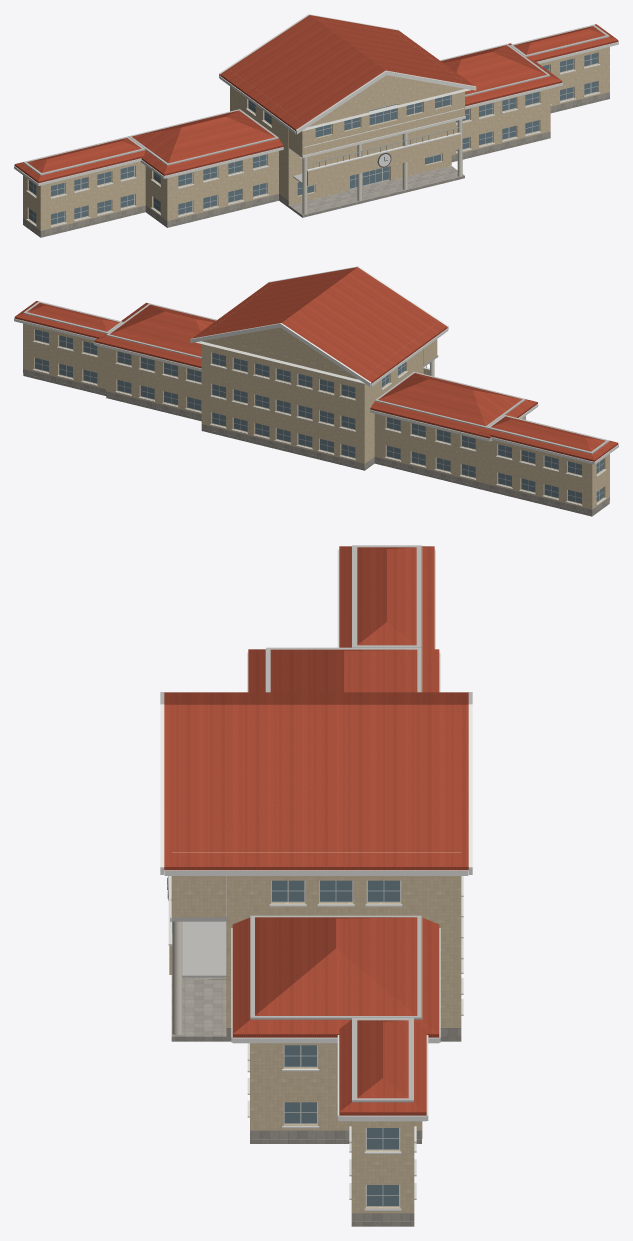
3 renders of one model, top to bottom at view 1: azimuth 30°, elevation 25°; view 2: azimuth 150°, elevation 25°; view 3: azimuth 270°, elevation 25°, orthographic. The views are drawn at different scales.
Visible parts, largest first — view 1: main__tile, main__roof, main__glass, main__stone, main__trim, main__slab, main__frame, main__column, main__soffit, main__rail; view 2: main__tile, main__roof, main__glass, main__trim, main__stone, main__frame, main__slab, main__soffit; view 3: main__roof, main__tile, main__slab, main__trim, main__stone, main__glass, main__frame, main__column.
Part boxes in pixels (left/top/right/bottom): main__tile: left=23, top=47, right=609, bottom=230; main__roof: left=14, top=15, right=618, bottom=183; main__glass: left=29, top=52, right=597, bottom=224; main__stone: left=23, top=92, right=609, bottom=237; main__trim: left=14, top=14, right=618, bottom=227; main__slab: left=23, top=24, right=609, bottom=183; main__frame: left=28, top=53, right=598, bottom=225; main__column: left=302, top=119, right=462, bottom=214; main__soffit: left=302, top=89, right=470, bottom=131; main__rail: left=307, top=127, right=459, bottom=168; main__tile: left=23, top=323, right=609, bottom=509; main__roof: left=14, top=267, right=618, bottom=461; main__glass: left=35, top=329, right=603, bottom=503; main__trim: left=14, top=266, right=618, bottom=506; main__stone: left=23, top=369, right=609, bottom=516; main__frame: left=34, top=329, right=603, bottom=503; main__slab: left=23, top=301, right=609, bottom=453; main__soffit: left=195, top=341, right=364, bottom=383; main__roof: left=164, top=546, right=468, bottom=1115; main__tile: left=169, top=547, right=461, bottom=1213; main__slab: left=172, top=545, right=421, bottom=1102; main__trim: left=160, top=549, right=472, bottom=1210; main__stone: left=171, top=975, right=461, bottom=1226; main__glass: left=272, top=880, right=399, bottom=1205; main__frame: left=271, top=880, right=401, bottom=1206; main__column: left=172, top=921, right=182, bottom=1035.
Bounding box in the file's own units: 85.78 × 18.18 × 19.96.
Materials: 12 (3 with a texture image).
